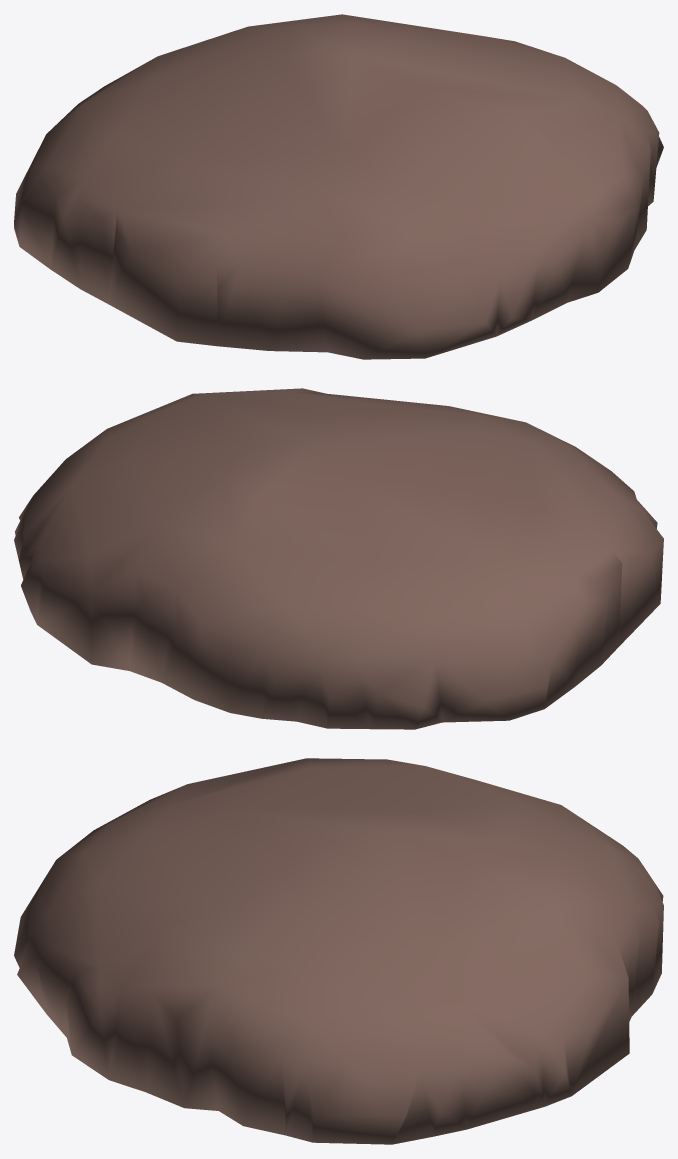
The model's file is devonian-tabulate.lod1.glb.
The picture shows the model from 3 angles, top to bottom: view 1: azimuth 30°, elevation 25°; view 2: azimuth 150°, elevation 25°; view 3: azimuth 270°, elevation 25°; orthographic projection. The views are drawn at different scales.
Visible parts, largest first — view 1: devonian-tabulate; view 2: devonian-tabulate; view 3: devonian-tabulate.
Part boxes in pixels (x1,y1,x2,y2): devonian-tabulate: (14, 14, 663, 359); devonian-tabulate: (14, 388, 663, 729); devonian-tabulate: (14, 758, 663, 1144).
Size of the model in its own units: 1.12 by 0.3 by 1.03.
